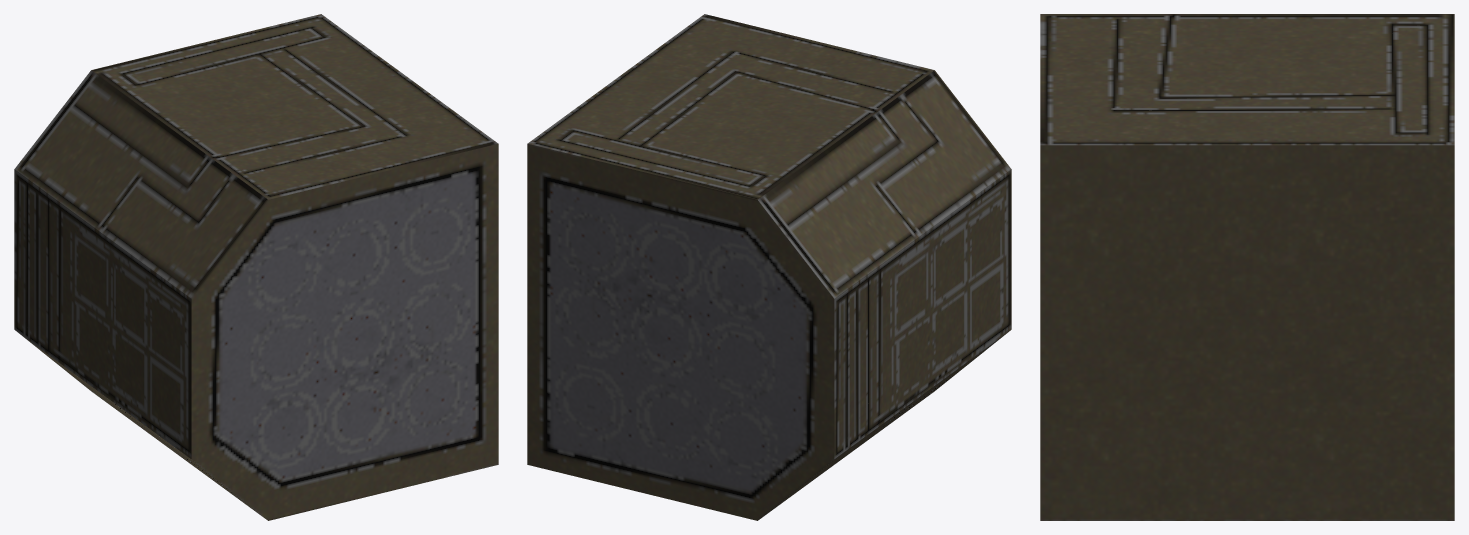
Rendered from HoverTankMissileLauncher.fbx.
The picture shows the model from 3 angles, left to right: view 1: azimuth 30°, elevation 25°; view 2: azimuth 150°, elevation 25°; view 3: azimuth 270°, elevation 25°; orthographic projection. The views are drawn at different scales.
Parts seen in each view (by area): view 1: HoverTankMissileLauncher; view 2: HoverTankMissileLauncher; view 3: HoverTankMissileLauncher.
Boxes of the visible parts, x1,y1,x2,y2 form: HoverTankMissileLauncher: [14, 14, 498, 520]; HoverTankMissileLauncher: [527, 14, 1011, 520]; HoverTankMissileLauncher: [1040, 14, 1454, 520].
Bounding box in the file's own units: 0.1014 × 0.1014 × 0.1014.
